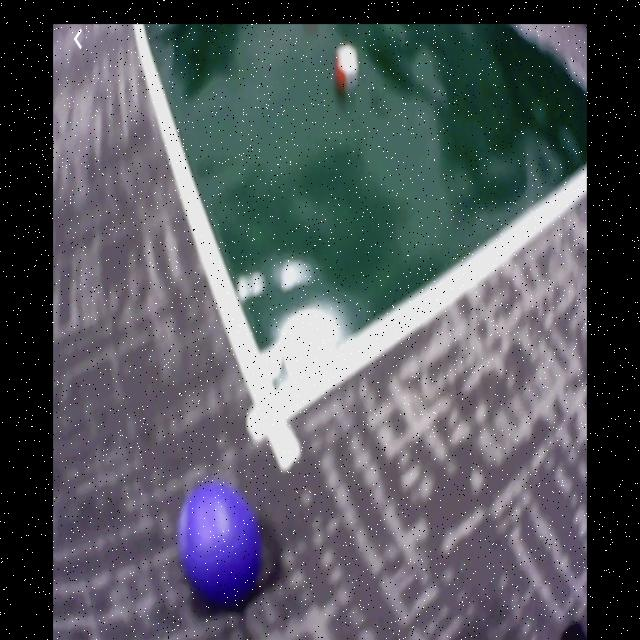ball: (181, 484, 260, 605)
